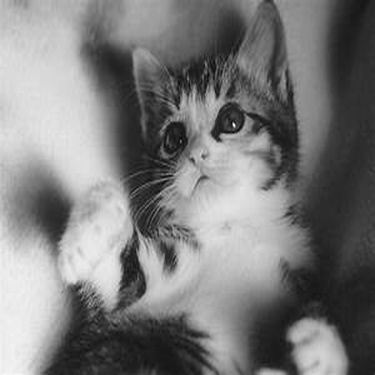cat: (41, 1, 352, 373)
